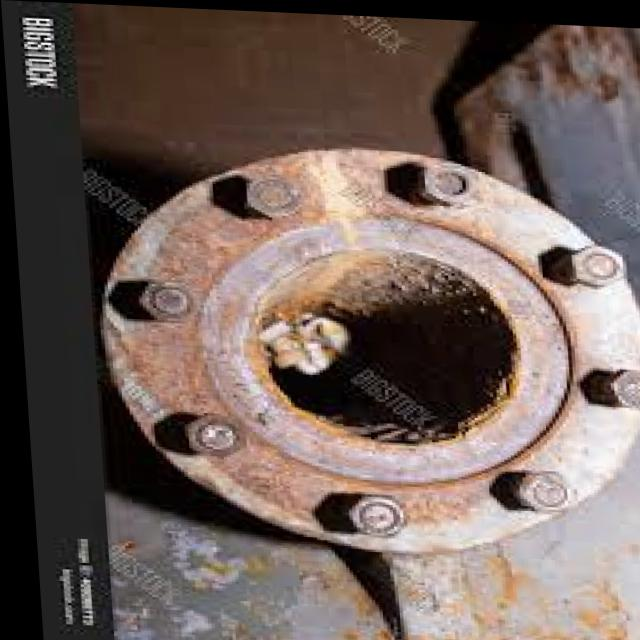Rusty bolt: (505, 463, 574, 512), (559, 239, 629, 285), (176, 411, 242, 459), (238, 169, 302, 217), (414, 159, 474, 207), (338, 493, 403, 535), (133, 279, 195, 321), (600, 362, 640, 407)
